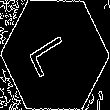L_NE: (29, 29, 81, 81)
